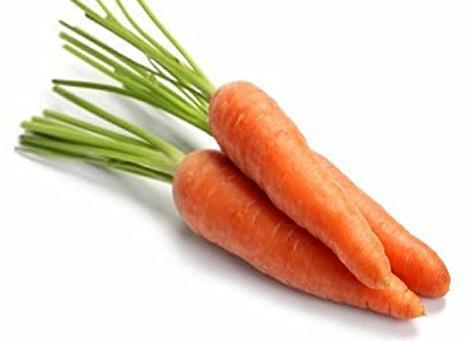carrot: (25, 107, 448, 313), (170, 70, 428, 306)
